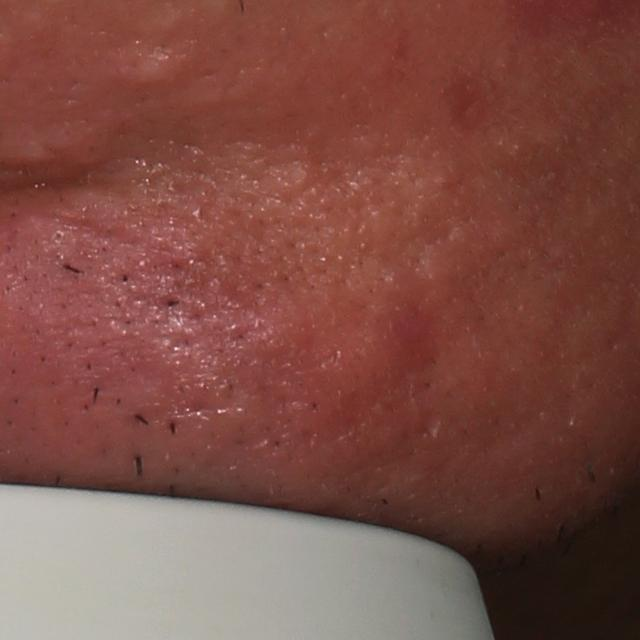hypertrophic_scar: (113, 35, 202, 89)
